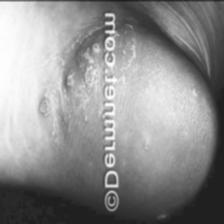Toxin: (38, 41, 100, 125)
